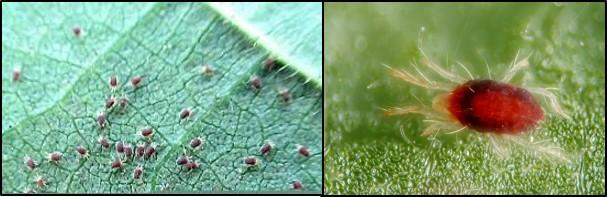Mites: (376, 30, 569, 180)
